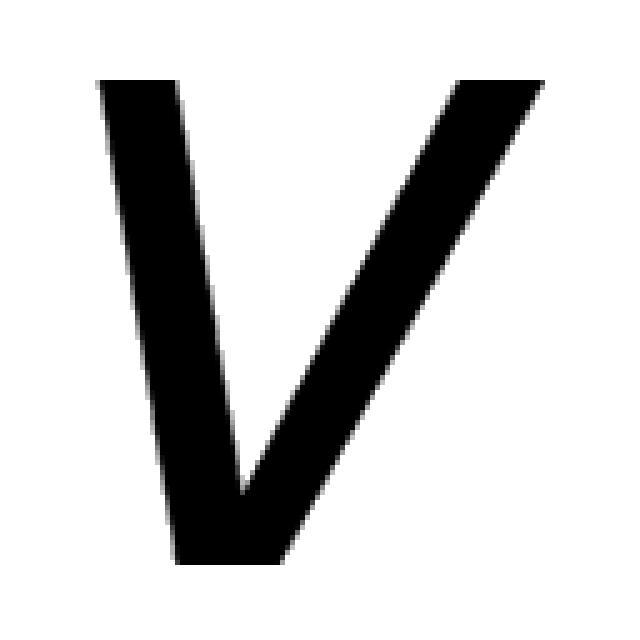V: (85, 65, 545, 565)
